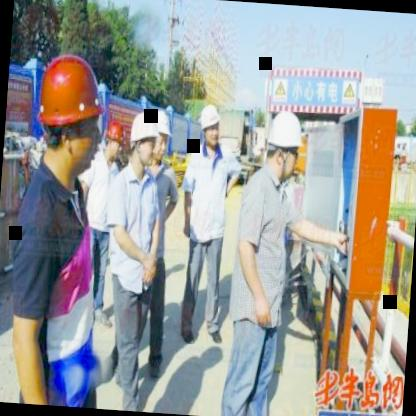helmet: (35, 48, 108, 171), (263, 108, 304, 178), (127, 110, 160, 169), (150, 108, 174, 164), (100, 118, 127, 166), (199, 100, 222, 148)
